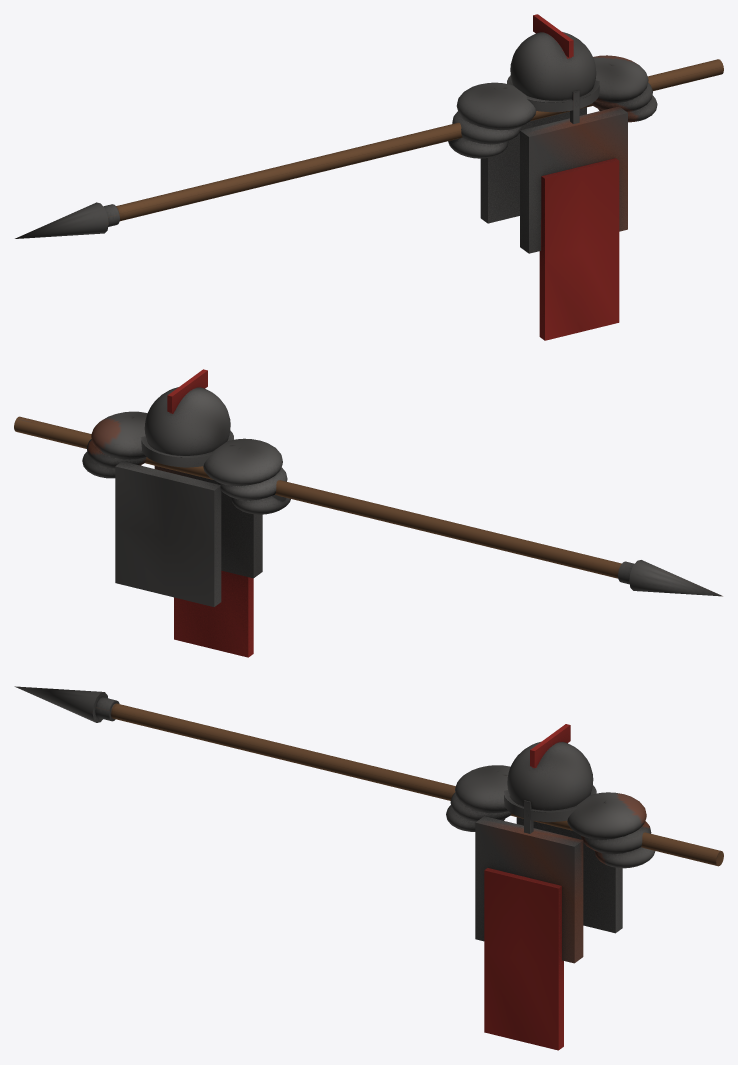
Rendered from npc_guarda.glb.
3 views of the same model, one above another, from view 1: azimuth 30°, elevation 25°; view 2: azimuth 150°, elevation 25°; view 3: azimuth 330°, elevation 25° (orthographic).
Visible parts, largest first — view 1: guarda_Spine2_peca, guarda_RightHand_peca, guarda_Head_peca; view 2: guarda_Spine2_peca, guarda_RightHand_peca, guarda_Head_peca; view 3: guarda_Spine2_peca, guarda_RightHand_peca, guarda_Head_peca.
Part boxes in pixels (left/top/right/bottom): guarda_Spine2_peca: left=448, top=55, right=657, bottom=340; guarda_RightHand_peca: left=15, top=59, right=723, bottom=238; guarda_Head_peca: left=507, top=14, right=599, bottom=123; guarda_Spine2_peca: left=82, top=411, right=290, bottom=657; guarda_RightHand_peca: left=14, top=416, right=722, bottom=596; guarda_Head_peca: left=141, top=369, right=233, bottom=467; guarda_Spine2_peca: left=446, top=765, right=655, bottom=1050; guarda_RightHand_peca: left=14, top=686, right=723, bottom=866; guarda_Head_peca: left=504, top=724, right=596, bottom=833.
Bounding box in the file's own units: 2.28 × 0.8728 × 0.2914.
Materials: 3 (3 with a texture image).
